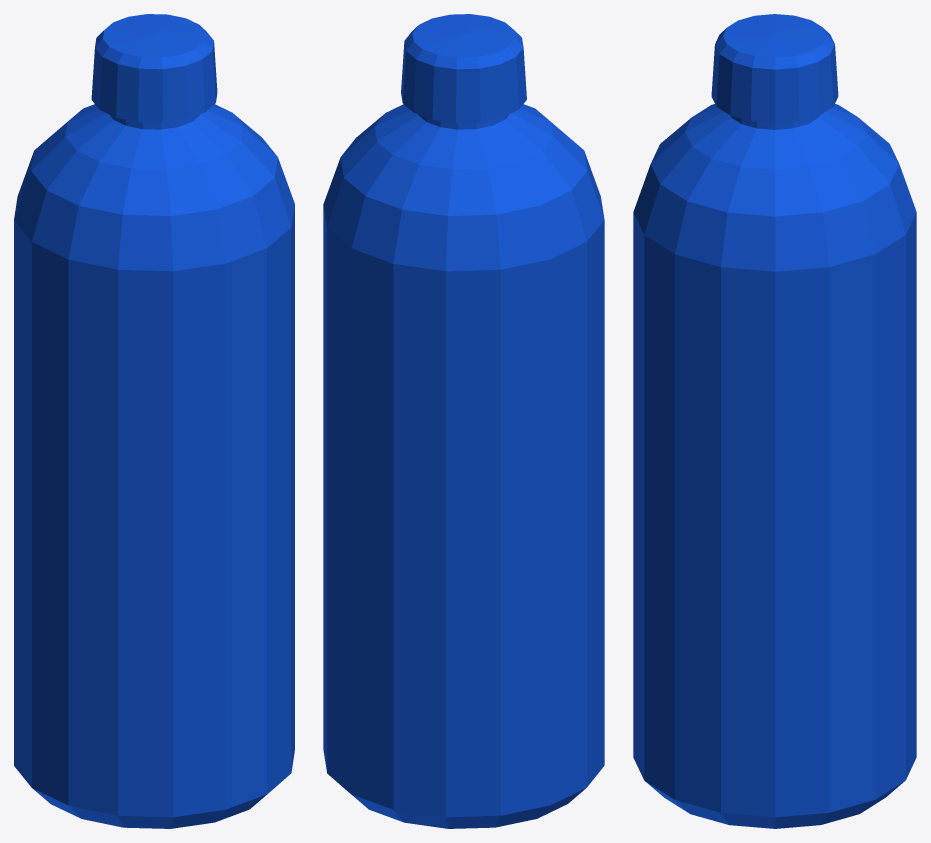
The model's file is water.fbx.
3 views of the same model, side by side, from view 1: azimuth 30°, elevation 25°; view 2: azimuth 150°, elevation 25°; view 3: azimuth 270°, elevation 25° (orthographic).
Visible parts, largest first — view 1: WaterBottle; view 2: WaterBottle; view 3: WaterBottle.
Part boxes in pixels (left/top/right/bottom): WaterBottle: left=14, top=14, right=294, bottom=828; WaterBottle: left=323, top=14, right=604, bottom=828; WaterBottle: left=633, top=14, right=916, bottom=828.
Size of the model in its own units: 112 by 326 by 112.
